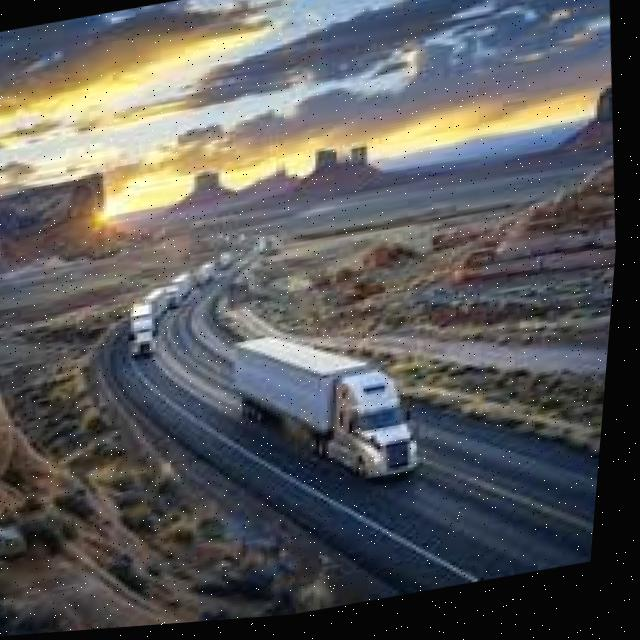truck: (231, 313, 440, 510), (124, 299, 168, 361)
